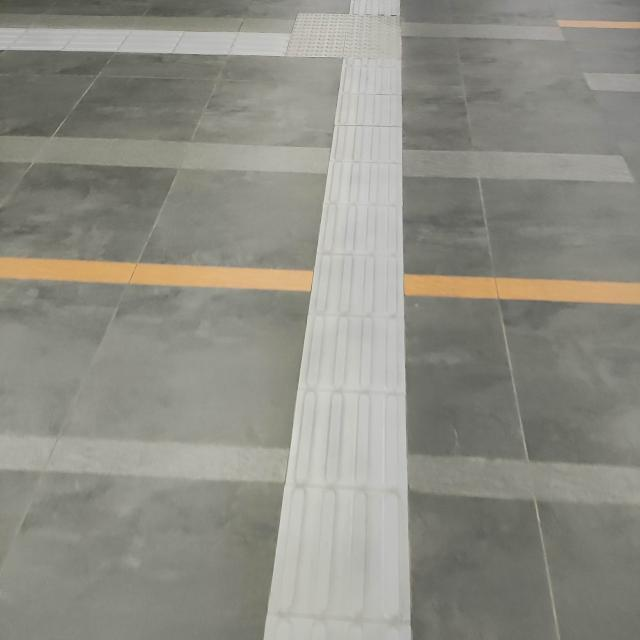lurus: (282, 74, 413, 640)
